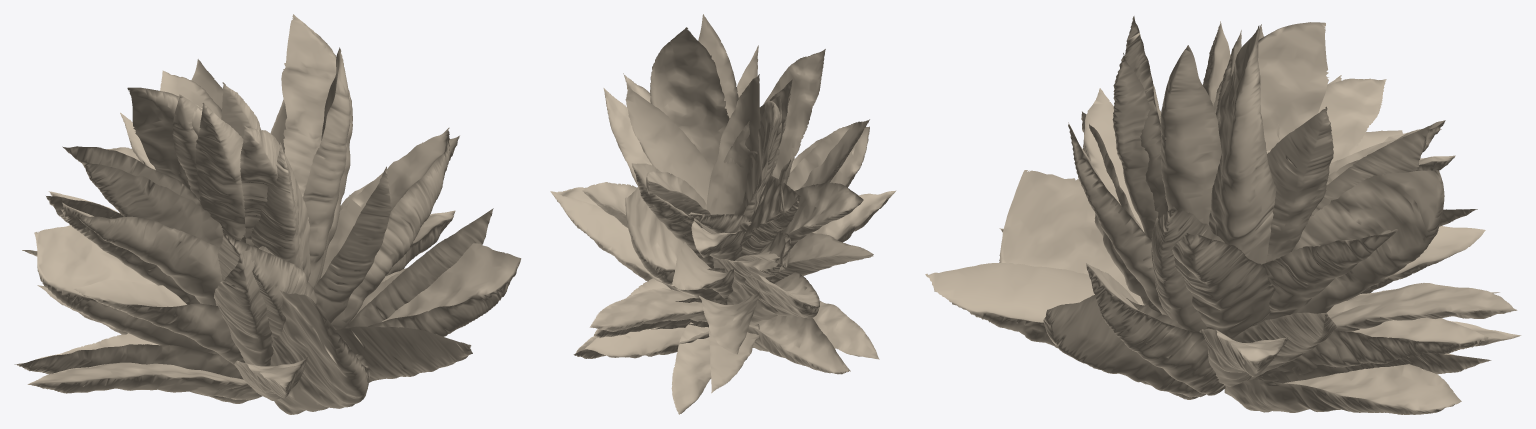
File: 3dcodebench_AgaveMonocot_seed0.glb
The picture shows the model from 3 angles, left to right: view 1: azimuth 30°, elevation 25°; view 2: azimuth 150°, elevation 25°; view 3: azimuth 270°, elevation 25°; orthographic projection. The views are drawn at different scales.
Visible parts, largest first — view 1: object; view 2: object; view 3: object.
Part boxes in pixels (bbox=[...]): object: bbox=[14, 14, 521, 414]; object: bbox=[550, 14, 896, 414]; object: bbox=[925, 16, 1521, 414].
Bounding box in the file's own units: 2.67 × 2.32 × 3.14.
